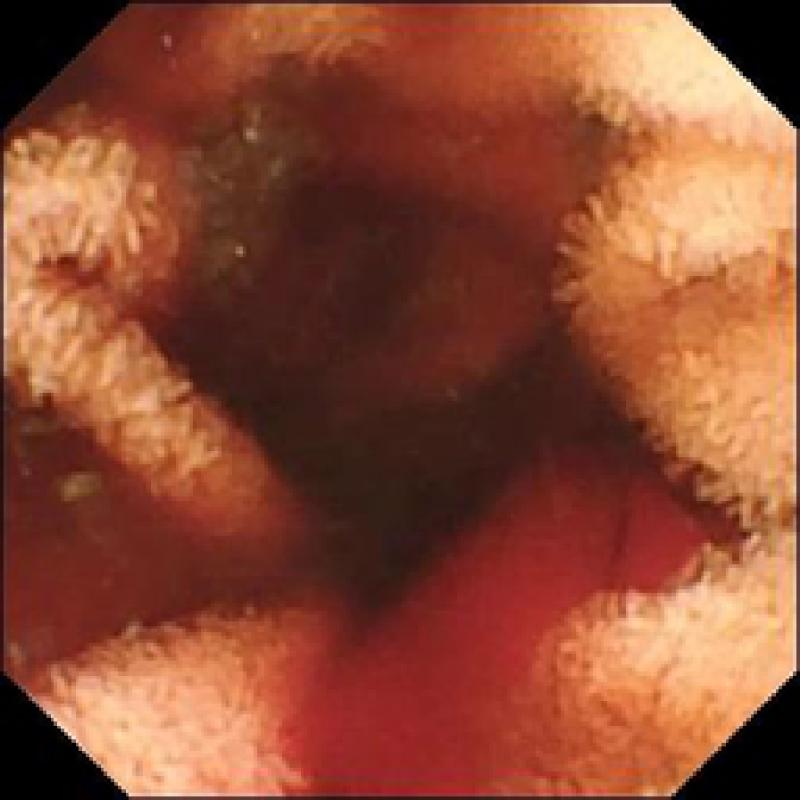bleeding: (297, 450, 732, 800), (4, 474, 250, 666)
